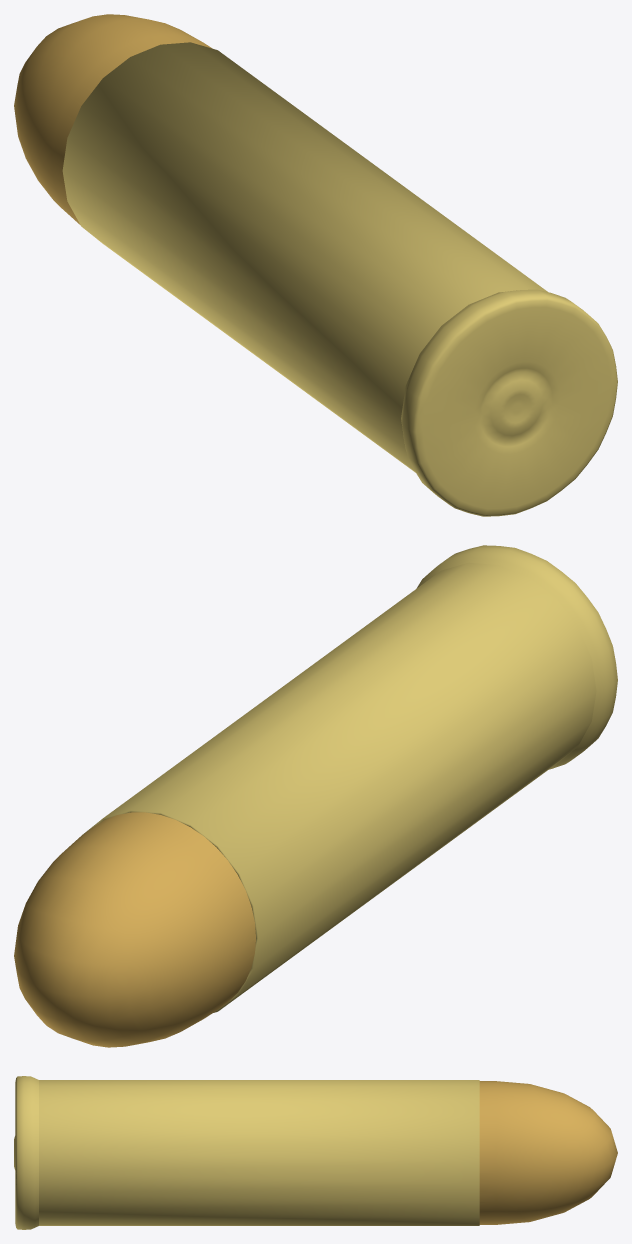
File: Pistol_Bullet.003.fbx
3 views of the same model, one above another, from view 1: azimuth 30°, elevation 25°; view 2: azimuth 150°, elevation 25°; view 3: azimuth 270°, elevation 25° (orthographic). The views are drawn at different scales.
Visible parts, largest first — view 1: polySurface29; view 2: polySurface29; view 3: polySurface29.
Part boxes in pixels (<box>): polySurface29: <box>14,14,617,516</box>; polySurface29: <box>14,545,617,1047</box>; polySurface29: <box>14,1076,617,1229</box>.
Bounding box in the file's own units: 0.5885 × 0.5885 × 2.29.
